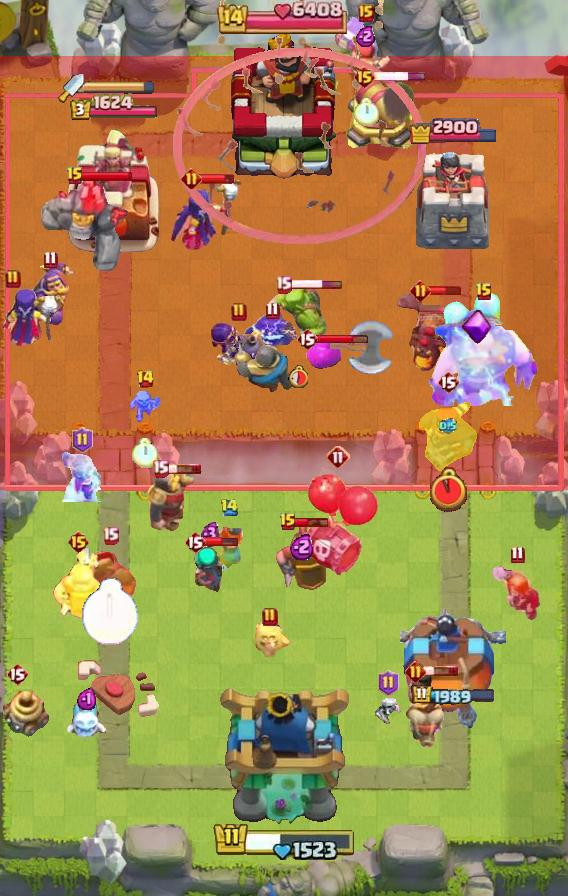axe: (330, 320, 396, 376)
bar: (81, 170, 133, 182), (289, 279, 343, 290), (316, 334, 369, 345), (374, 71, 427, 82), (423, 665, 459, 677), (294, 516, 330, 528), (166, 463, 202, 475), (199, 173, 235, 185), (204, 536, 239, 548), (428, 285, 462, 296)
bar-level: (326, 445, 350, 469), (67, 530, 90, 554), (353, 65, 376, 89), (378, 670, 399, 696), (72, 427, 93, 453), (6, 662, 28, 686), (184, 530, 206, 554), (437, 370, 459, 394), (296, 327, 318, 351), (405, 661, 426, 682), (410, 280, 431, 301), (181, 168, 202, 189), (136, 369, 155, 389), (220, 498, 239, 517), (279, 512, 297, 532), (475, 282, 493, 302), (66, 166, 84, 186), (102, 526, 119, 545), (152, 459, 169, 478), (275, 275, 292, 294), (262, 607, 278, 627), (231, 302, 247, 322), (5, 269, 21, 289), (358, 4, 374, 22), (510, 545, 525, 564), (265, 301, 280, 320), (43, 250, 58, 269)
bomber-evolution: (209, 320, 269, 376)
clock: (81, 578, 139, 646), (430, 467, 467, 512), (132, 438, 158, 468), (354, 98, 379, 126), (288, 365, 308, 388)
dagger-duchess-tower: (64, 124, 164, 256)
dagger-duchess-tower-bar: (84, 80, 156, 94)
electro-spirit: (244, 309, 300, 349)
elixir: (290, 533, 315, 560), (201, 521, 220, 547), (356, 25, 376, 47), (77, 687, 96, 710), (439, 418, 457, 434)
elixir-golem-small: (306, 341, 342, 371)
evolution-symbol: (460, 308, 493, 346)
goblin-brawler: (269, 286, 327, 344), (82, 547, 138, 605)
heal-spirit: (248, 617, 292, 657)
hunter: (417, 399, 479, 471)
ice-spirit: (64, 703, 108, 741)
king-tower: (216, 684, 352, 826), (222, 31, 346, 181)
king-tower-bar: (212, 818, 356, 860), (217, 0, 351, 34)
knight: (232, 343, 294, 393), (147, 470, 196, 531)
knight-evolution: (28, 260, 73, 328)
little-prince: (61, 452, 103, 502)
lumberjack: (334, 15, 398, 81)
queen-tower: (400, 603, 506, 731), (410, 145, 496, 256)
ram-rider: (405, 668, 449, 750)
rascal-girl: (192, 547, 228, 593)
royal-recruit: (50, 544, 106, 624), (274, 518, 330, 594)
skeleton: (128, 390, 162, 424), (375, 696, 401, 725)
tower-bar: (408, 116, 499, 144), (69, 94, 159, 122), (411, 684, 496, 707)
valkyrie: (490, 562, 544, 622), (210, 522, 248, 574)
witch: (169, 177, 245, 251), (0, 287, 68, 349)
zappy: (0, 691, 50, 739)
